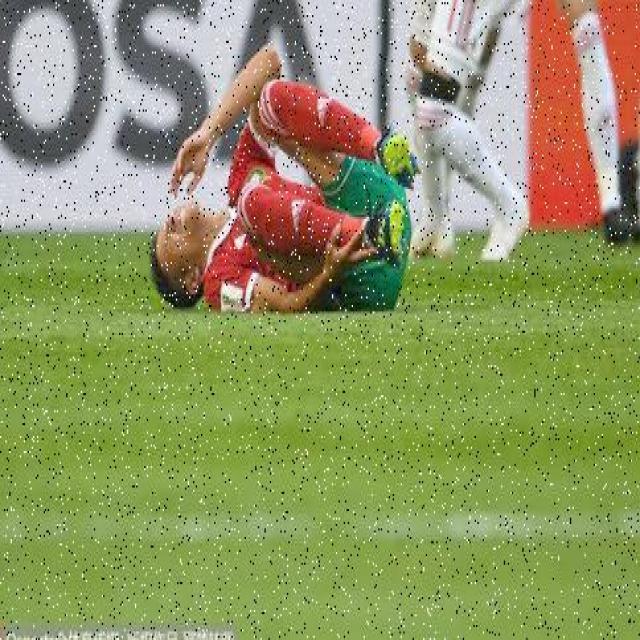fall: (148, 67, 416, 300)
